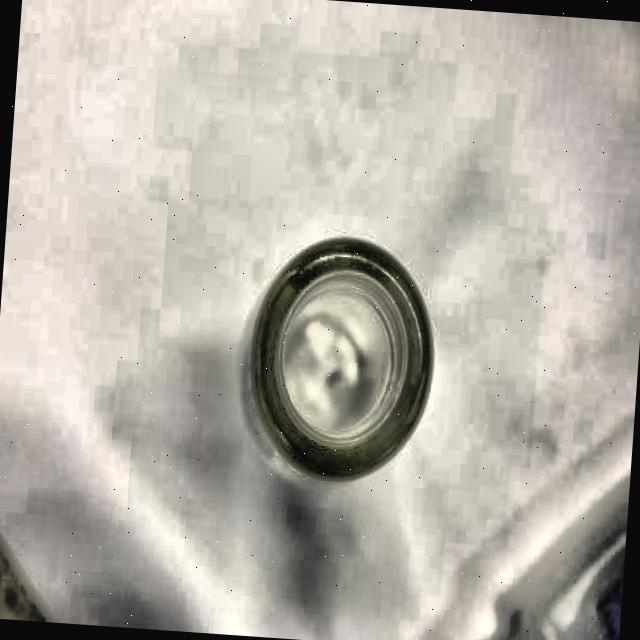glass: (242, 229, 438, 485)
